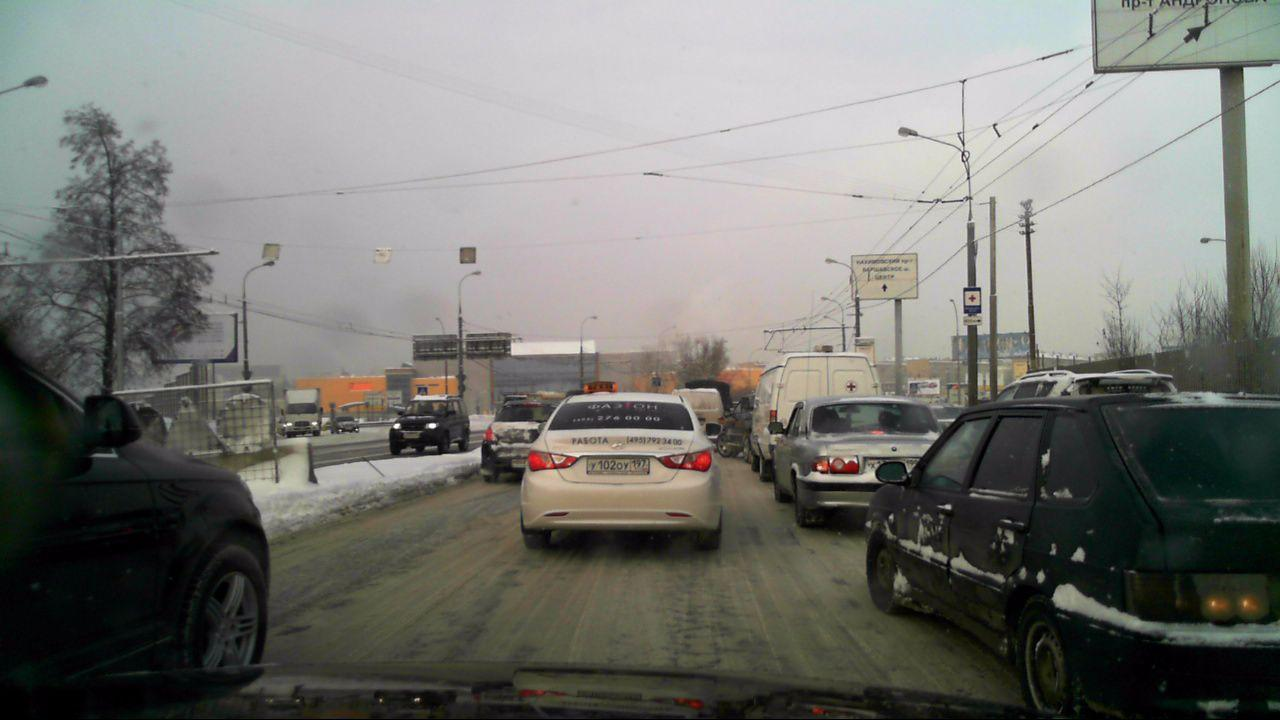6_10_1: (851, 255, 921, 300)
7_1: (961, 288, 981, 314)
8_1_4: (964, 314, 984, 325)
